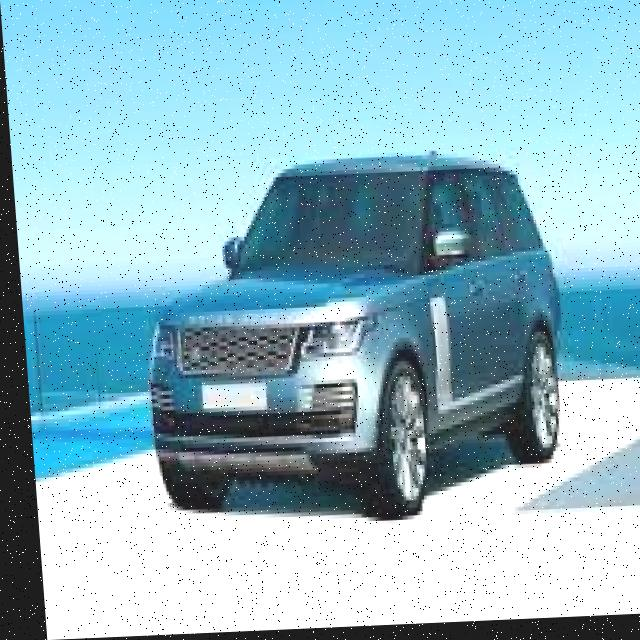car: (102, 123, 603, 544)
